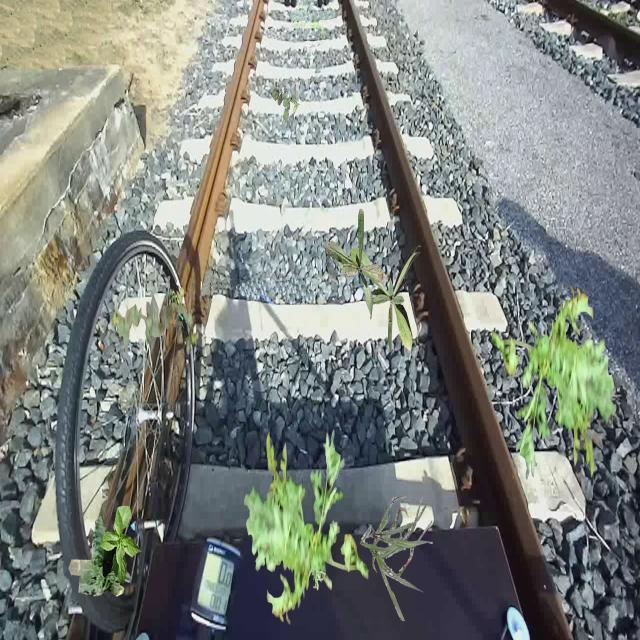Plant: (244, 429, 369, 625), (492, 285, 617, 481), (360, 497, 433, 622), (350, 245, 422, 353), (325, 208, 389, 320), (112, 287, 198, 356), (68, 514, 132, 597), (100, 506, 142, 586), (272, 82, 300, 123), (312, 570, 326, 590)
